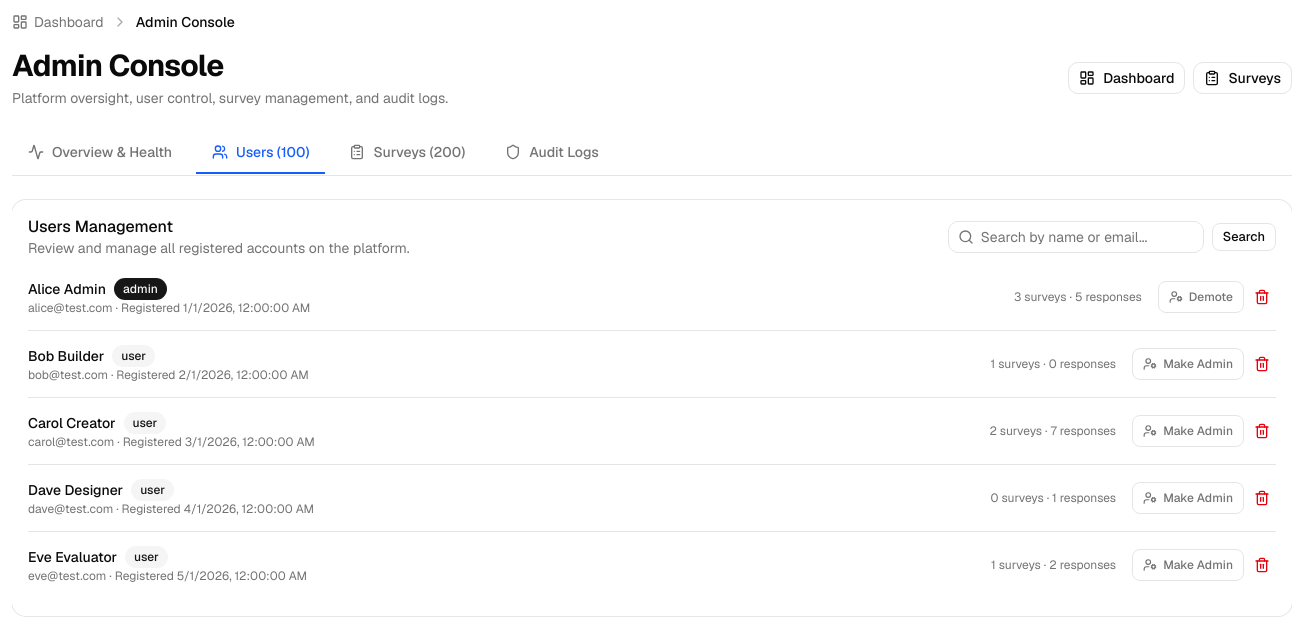
AdminPage › filters users by search input on Enter
Type "carol" into the field with placeholder "Search by name or email..." at (1076, 237), box [948,221,1204,253]
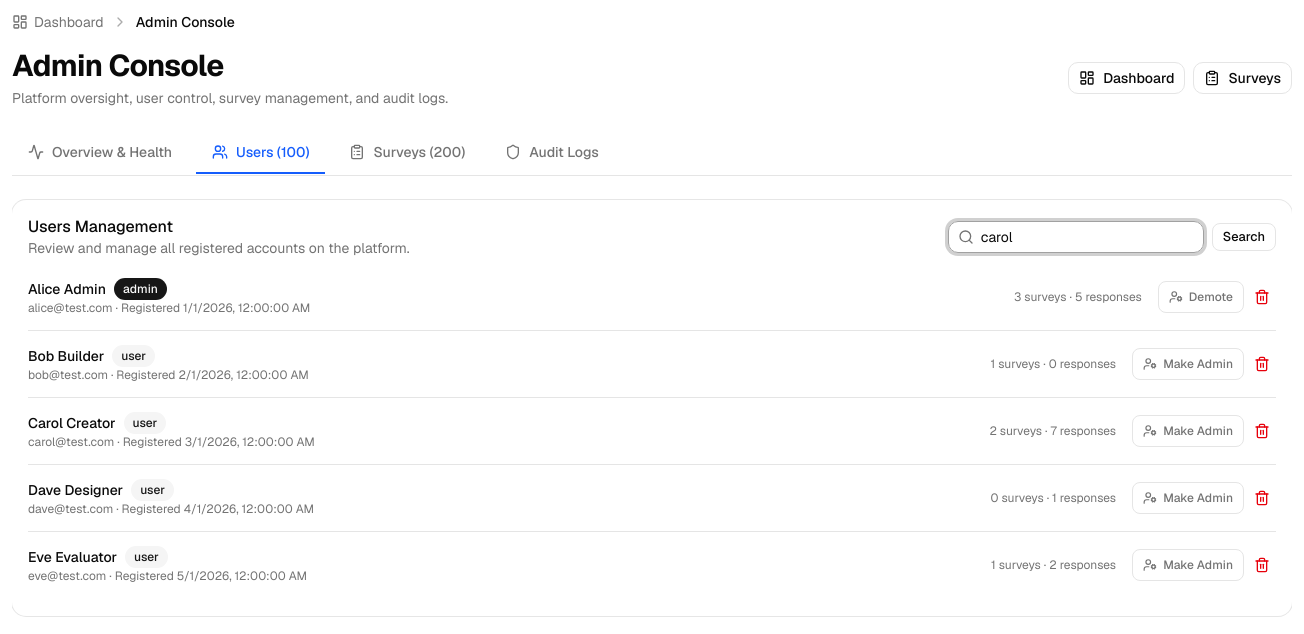
Press Enter
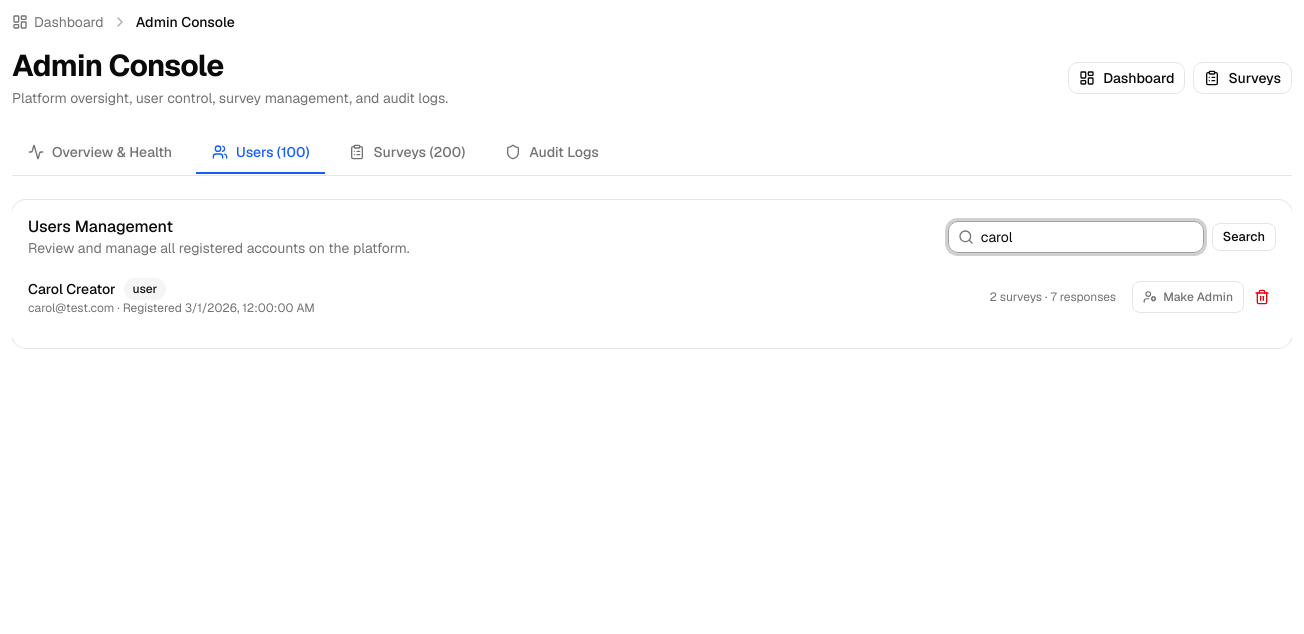
Expected: the text "Carol Creator" is shown, [28,279,116,299]
Result: the text "Bob Builder" is gone
Result: the text "Alice Admin" is gone
